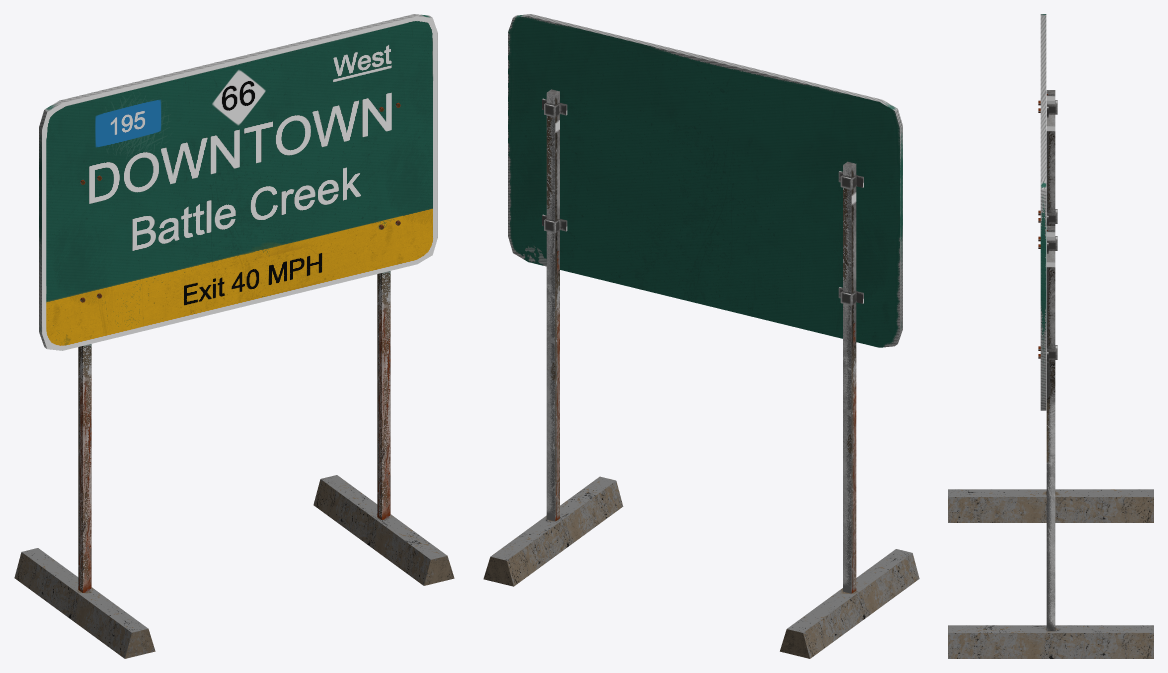
File: roadSign.glb
3 renders of one model, left to right at view 1: azimuth 30°, elevation 25°; view 2: azimuth 150°, elevation 25°; view 3: azimuth 270°, elevation 25°, orthographic. The views are drawn at different scales.
Parts seen in each view (by area): view 1: Object_2; view 2: Object_2; view 3: Object_2.
Part boxes in pixels (bbox=[...]): Object_2: bbox=[14, 14, 454, 658]; Object_2: bbox=[483, 14, 919, 658]; Object_2: bbox=[948, 14, 1153, 658].
Bounding box in the file's own units: 159 × 201 × 76.8.
1 material, 1 textured.
